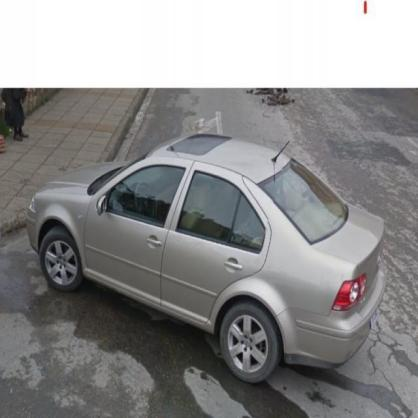car: (27, 131, 389, 385)
